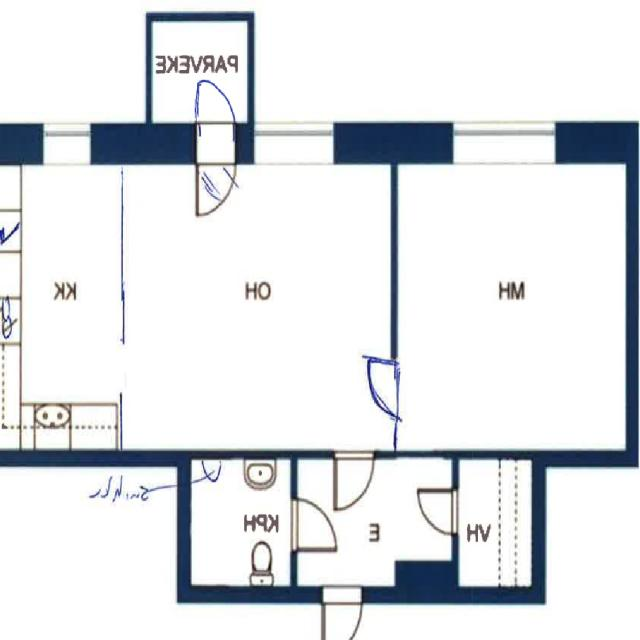door: (196, 68, 236, 162), (348, 361, 398, 415), (291, 498, 338, 550), (334, 448, 374, 509), (322, 585, 362, 640), (417, 489, 459, 533)
